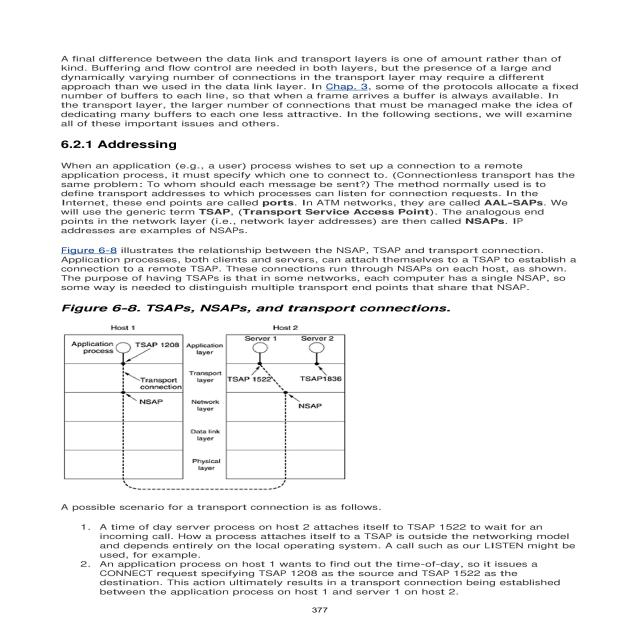diagram: (0, 298, 473, 498)
